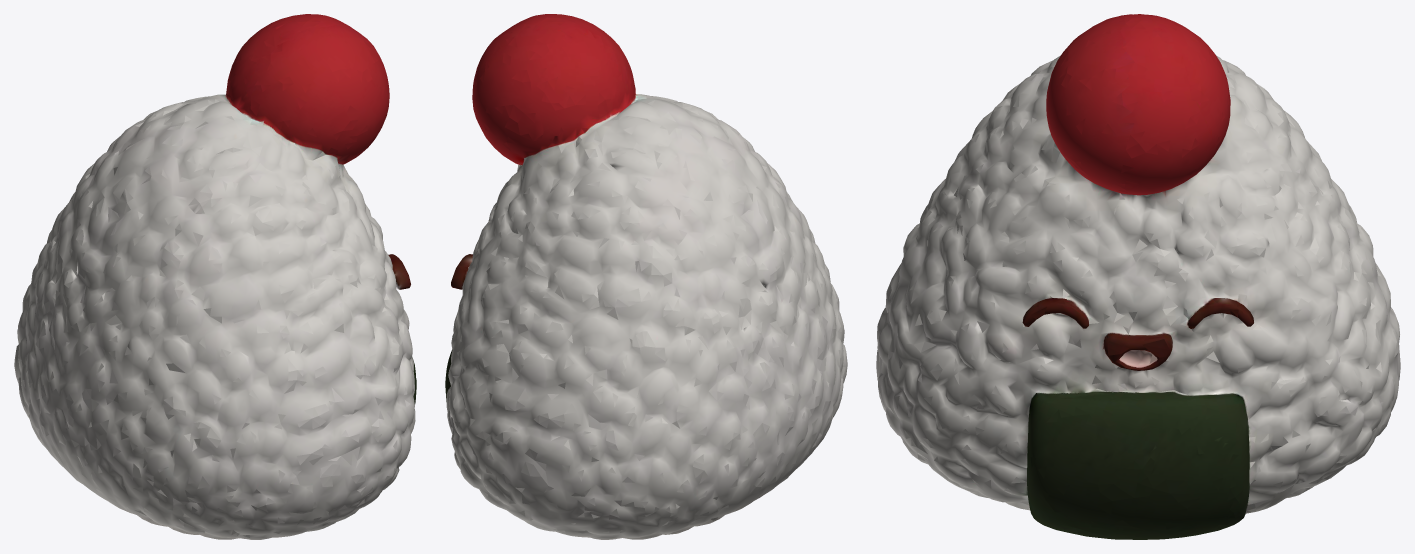
File: riceball_2.obj
The picture shows the model from 3 angles, left to right: view 1: azimuth 30°, elevation 25°; view 2: azimuth 150°, elevation 25°; view 3: azimuth 270°, elevation 25°; orthographic projection. The views are drawn at different scales.
Visible parts, largest first — view 1: tripo_node_6b3aaeaa-3141-42f7-b658-6aa70eefa4f4; view 2: tripo_node_6b3aaeaa-3141-42f7-b658-6aa70eefa4f4; view 3: tripo_node_6b3aaeaa-3141-42f7-b658-6aa70eefa4f4.
Boxes of the visible parts, x1,y1,x2,y2 form: tripo_node_6b3aaeaa-3141-42f7-b658-6aa70eefa4f4: [14, 14, 416, 539]; tripo_node_6b3aaeaa-3141-42f7-b658-6aa70eefa4f4: [445, 14, 847, 539]; tripo_node_6b3aaeaa-3141-42f7-b658-6aa70eefa4f4: [876, 14, 1400, 539].
Bounding box in the file's own units: 0.7806 × 1 × 0.9398.
1 material, 1 textured.
